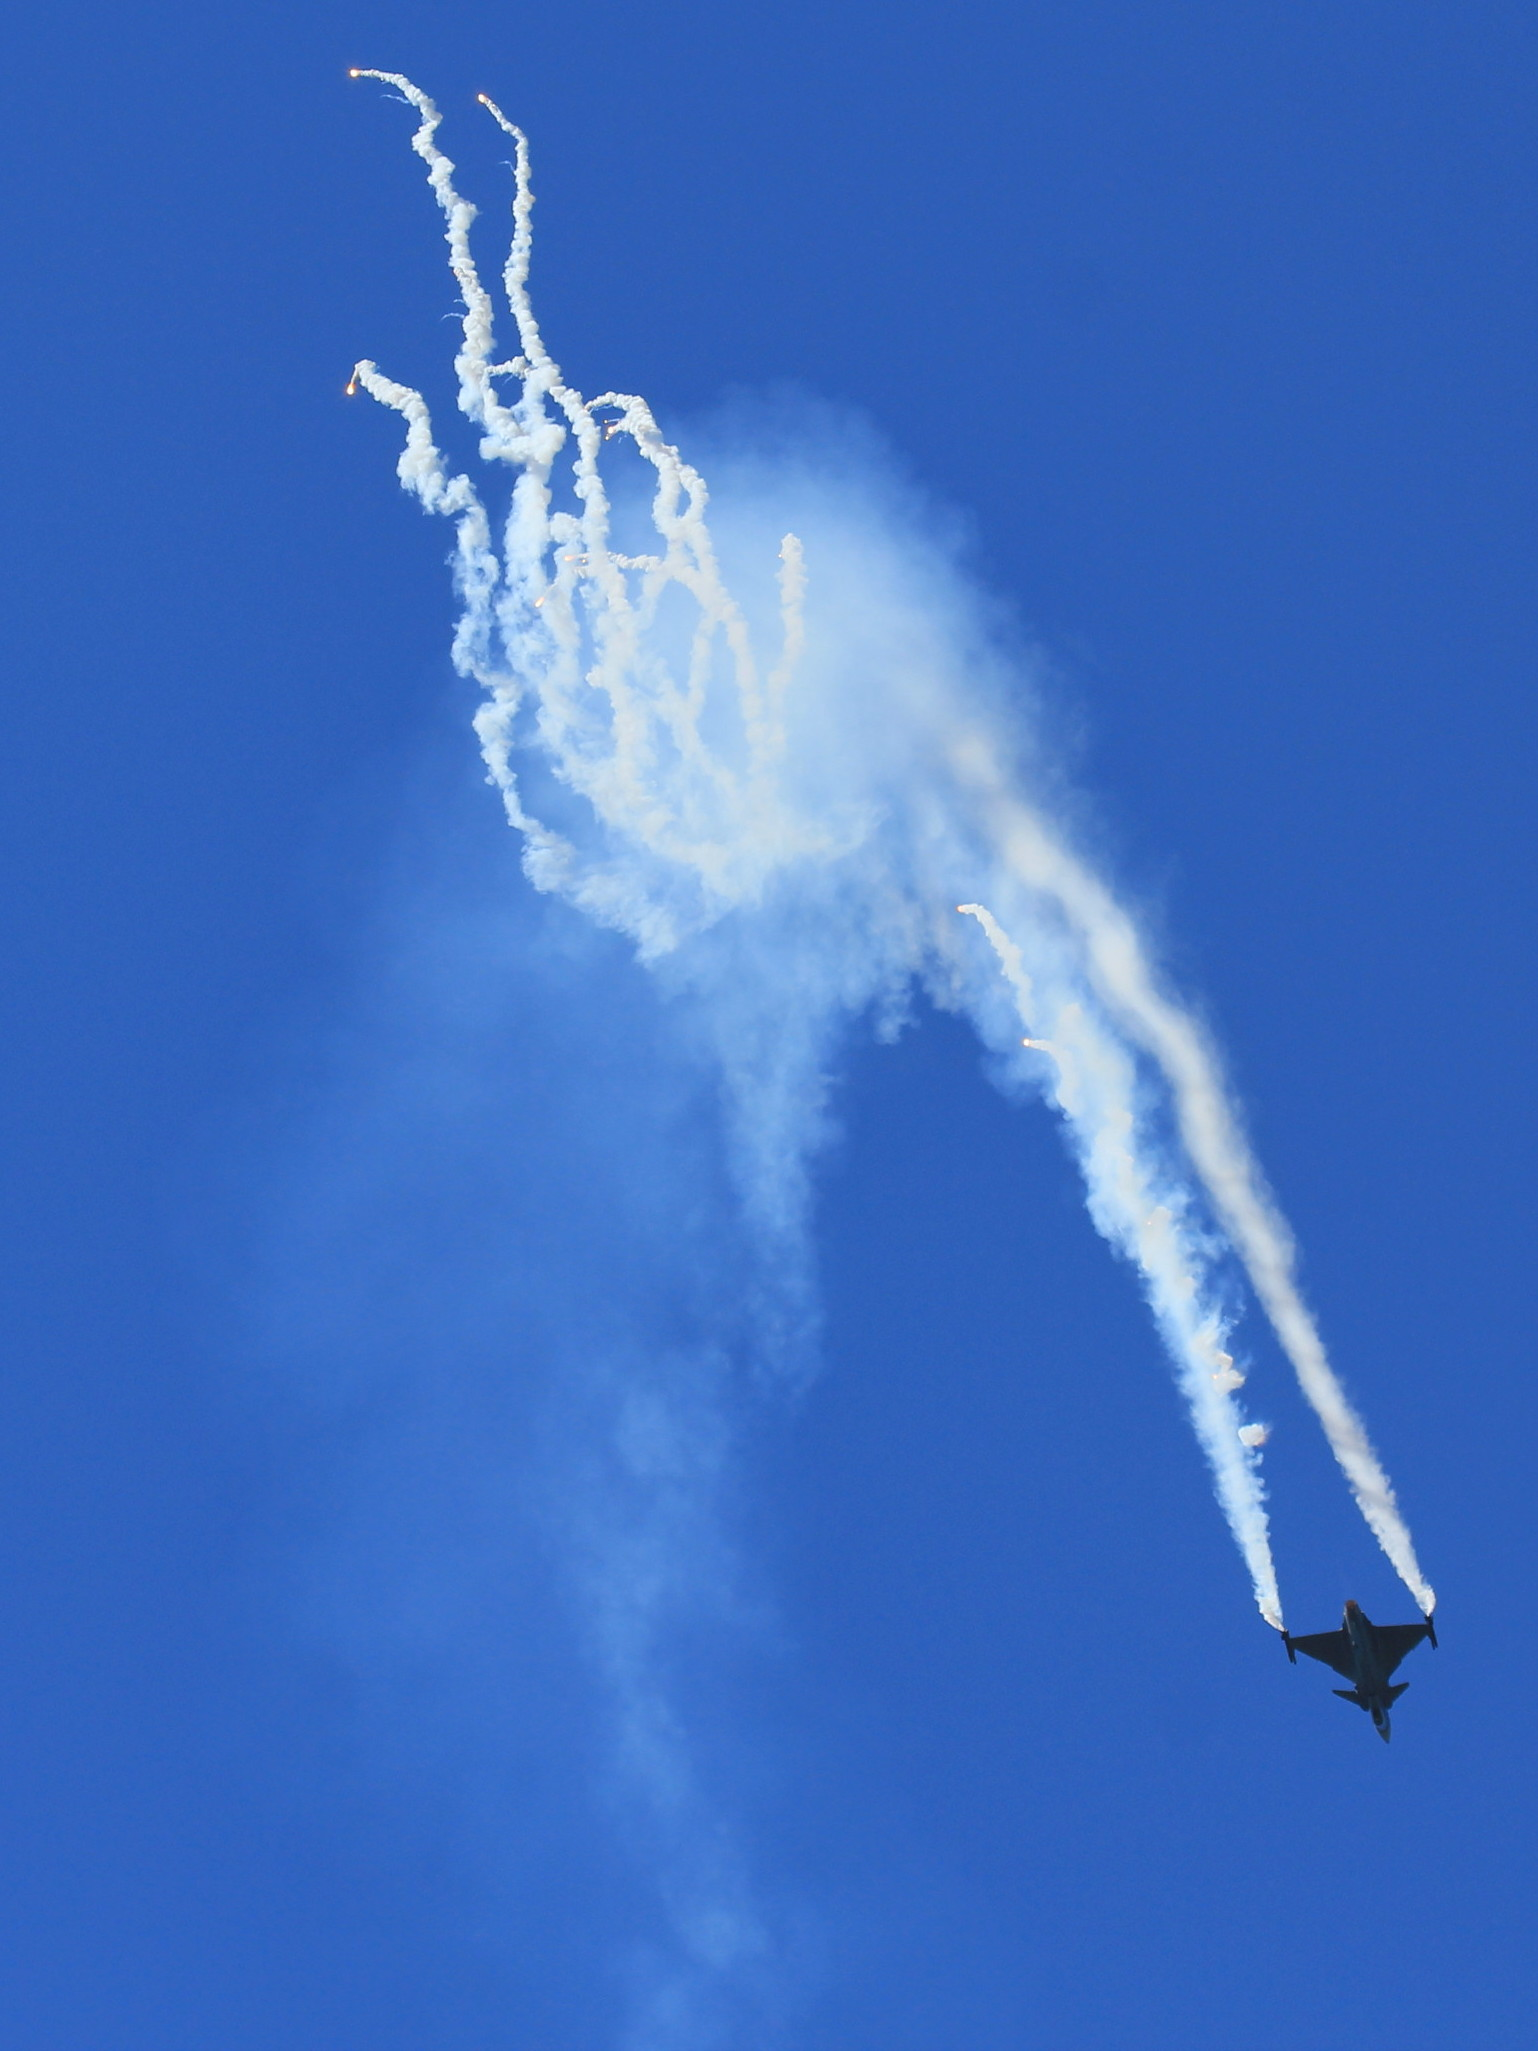JAS39: (1280, 1597, 1439, 1746)
